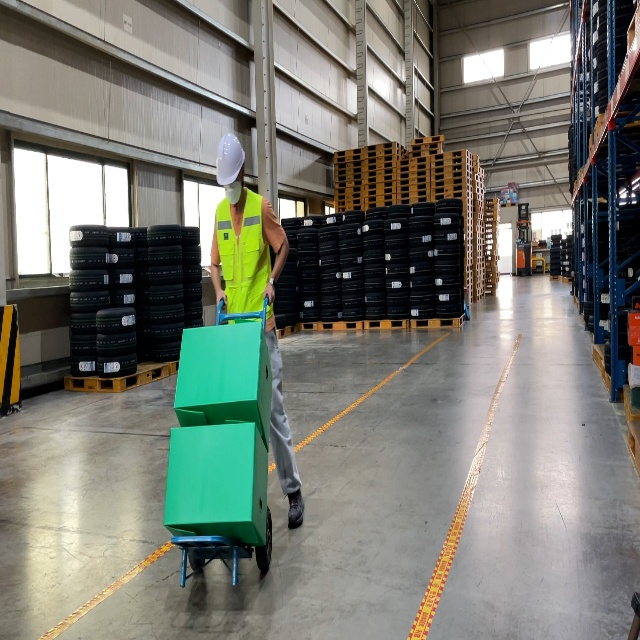Box: (163, 418, 269, 547), (173, 317, 274, 452)
Worker: (209, 131, 305, 529)
